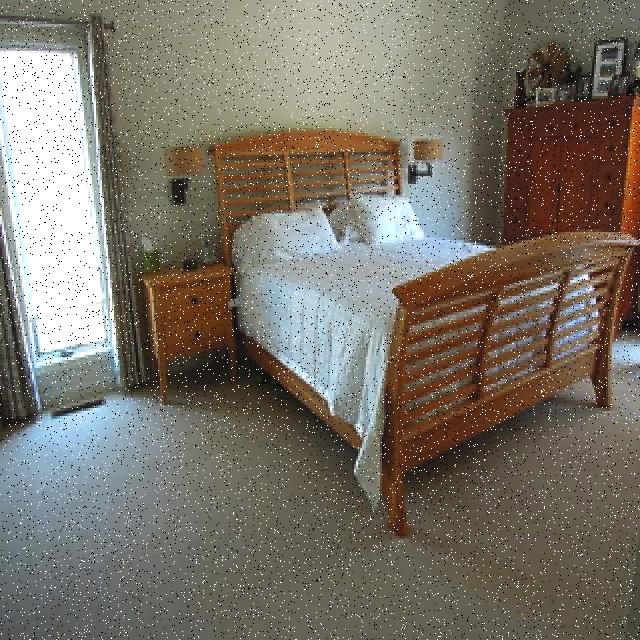bed: (215, 158, 626, 474)
